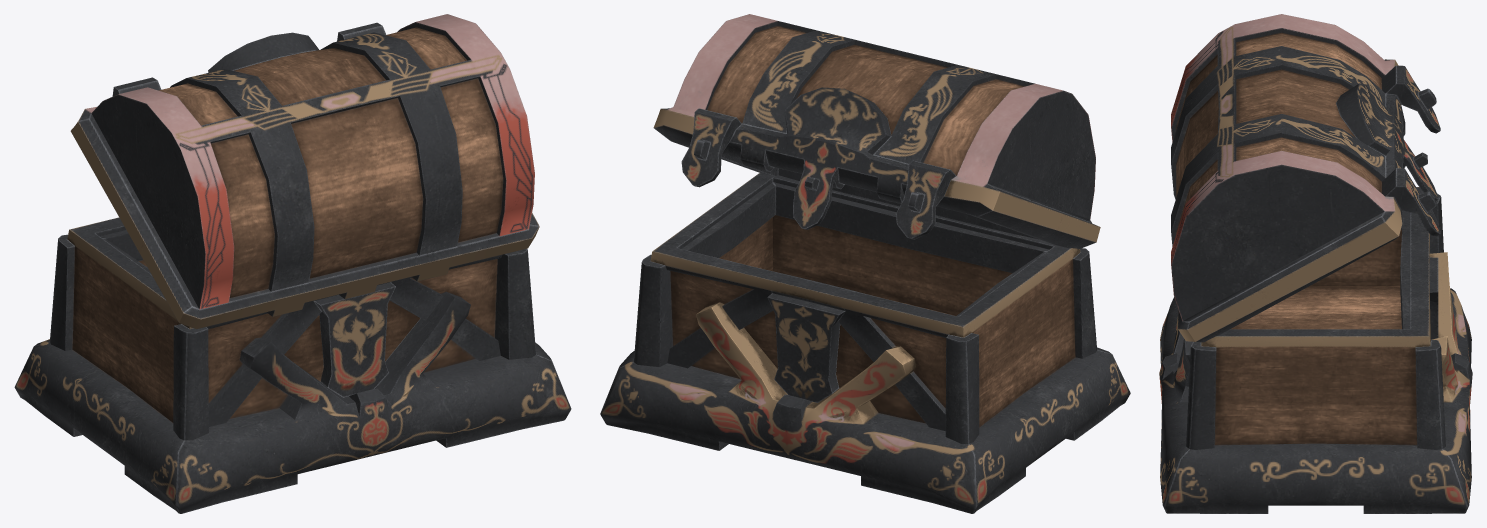
Rendered from chest_05.gltf.
3 renders of one model, left to right at view 1: azimuth 30°, elevation 25°; view 2: azimuth 150°, elevation 25°; view 3: azimuth 270°, elevation 25°, orthographic. The views are drawn at different scales.
Visible parts, largest first — view 1: TreasureChest_01 - Default_0; view 2: TreasureChest_01 - Default_0; view 3: TreasureChest_01 - Default_0.
Part boxes in pixels (x1,y1,x2,y2): TreasureChest_01 - Default_0: (14,14,571,513); TreasureChest_01 - Default_0: (600,14,1130,513); TreasureChest_01 - Default_0: (1159,14,1472,513).
Size of the model in its own units: 1 by 0.8584 by 0.7251.
1 material, 1 textured.
